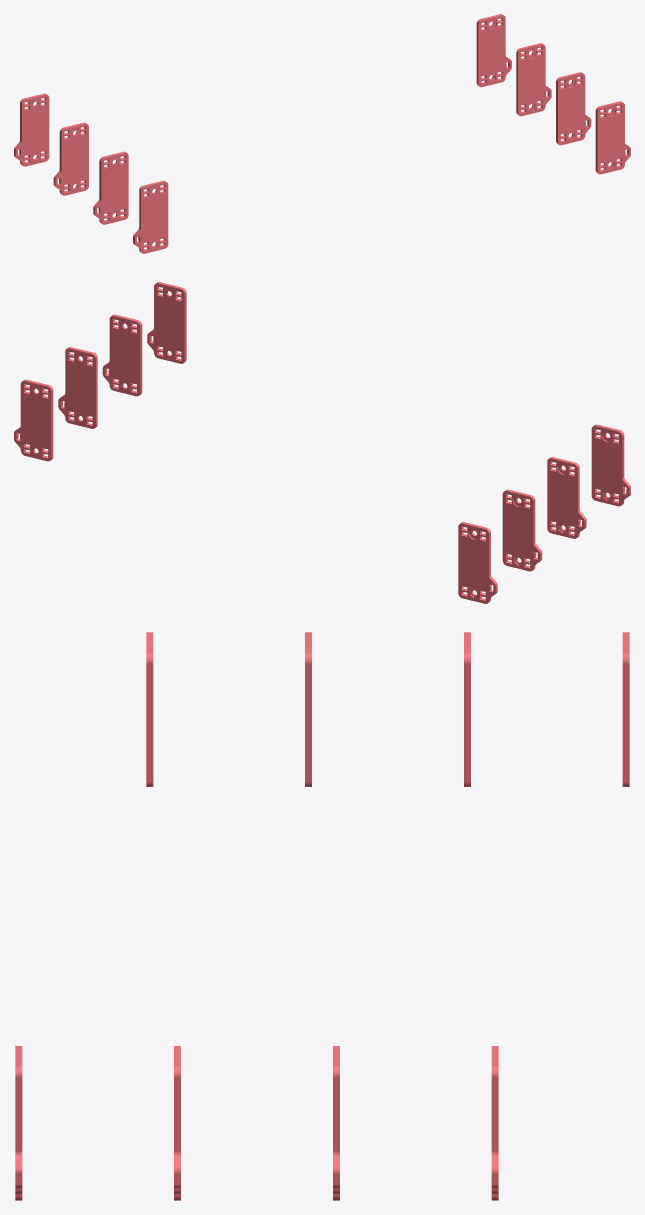
The model's file is BATTERY CRATE STACK V2__BATTERY CRATE L4__BATTERY MODULE V2 CLAMPS__SPINE ASM FRONT STOP__SPINE SIDE SIMPLE FRONT STOP B.glb.
3 renders of one model, top to bottom at view 1: azimuth 30°, elevation 25°; view 2: azimuth 150°, elevation 25°; view 3: azimuth 270°, elevation 25°, orthographic. The views are drawn at different scales.
Parts seen in each view (by area): view 1: SPINE SIDE SIMPLE FRONT STOP B 7, SPINE SIDE SIMPLE FRONT STOP B 8, SPINE SIDE SIMPLE FRONT STOP B 1, SPINE SIDE SIMPLE FRONT STOP B 2, SPINE SIDE SIMPLE FRONT STOP B 3, SPINE SIDE SIMPLE FRONT STOP B 5, SPINE SIDE SIMPLE FRONT STOP B 4, SPINE SIDE SIMPLE FRONT STOP B 6; view 2: SPINE SIDE SIMPLE FRONT STOP B 6, SPINE SIDE SIMPLE FRONT STOP B 4, SPINE SIDE SIMPLE FRONT STOP B 8, SPINE SIDE SIMPLE FRONT STOP B 2, SPINE SIDE SIMPLE FRONT STOP B 7, SPINE SIDE SIMPLE FRONT STOP B 1, SPINE SIDE SIMPLE FRONT STOP B 3, SPINE SIDE SIMPLE FRONT STOP B 5; view 3: SPINE SIDE SIMPLE FRONT STOP B 1, SPINE SIDE SIMPLE FRONT STOP B 2, SPINE SIDE SIMPLE FRONT STOP B 7, SPINE SIDE SIMPLE FRONT STOP B 8, SPINE SIDE SIMPLE FRONT STOP B 3, SPINE SIDE SIMPLE FRONT STOP B 4, SPINE SIDE SIMPLE FRONT STOP B 5, SPINE SIDE SIMPLE FRONT STOP B 6.
Part boxes in pixels (bbox=[...]): SPINE SIDE SIMPLE FRONT STOP B 7: bbox=[14, 93, 49, 166]; SPINE SIDE SIMPLE FRONT STOP B 8: bbox=[476, 14, 511, 87]; SPINE SIDE SIMPLE FRONT STOP B 1: bbox=[595, 101, 630, 174]; SPINE SIDE SIMPLE FRONT STOP B 2: bbox=[133, 180, 168, 253]; SPINE SIDE SIMPLE FRONT STOP B 3: bbox=[93, 151, 128, 224]; SPINE SIDE SIMPLE FRONT STOP B 5: bbox=[516, 43, 551, 116]; SPINE SIDE SIMPLE FRONT STOP B 4: bbox=[556, 72, 591, 145]; SPINE SIDE SIMPLE FRONT STOP B 6: bbox=[53, 122, 88, 195]; SPINE SIDE SIMPLE FRONT STOP B 6: bbox=[502, 489, 542, 571]; SPINE SIDE SIMPLE FRONT STOP B 4: bbox=[102, 314, 142, 396]; SPINE SIDE SIMPLE FRONT STOP B 8: bbox=[14, 379, 53, 461]; SPINE SIDE SIMPLE FRONT STOP B 2: bbox=[591, 424, 630, 506]; SPINE SIDE SIMPLE FRONT STOP B 7: bbox=[458, 522, 497, 603]; SPINE SIDE SIMPLE FRONT STOP B 1: bbox=[147, 282, 186, 363]; SPINE SIDE SIMPLE FRONT STOP B 3: bbox=[547, 457, 586, 538]; SPINE SIDE SIMPLE FRONT STOP B 5: bbox=[58, 347, 97, 428]; SPINE SIDE SIMPLE FRONT STOP B 1: bbox=[15, 1046, 22, 1200]; SPINE SIDE SIMPLE FRONT STOP B 2: bbox=[146, 632, 153, 786]; SPINE SIDE SIMPLE FRONT STOP B 7: bbox=[622, 632, 629, 786]; SPINE SIDE SIMPLE FRONT STOP B 8: bbox=[491, 1046, 498, 1200]; SPINE SIDE SIMPLE FRONT STOP B 3: bbox=[305, 632, 311, 786]; SPINE SIDE SIMPLE FRONT STOP B 4: bbox=[174, 1046, 180, 1200]; SPINE SIDE SIMPLE FRONT STOP B 5: bbox=[333, 1046, 339, 1200]; SPINE SIDE SIMPLE FRONT STOP B 6: bbox=[464, 632, 470, 786].
Size of the model in its own units: 0.9672 by 0.1333 by 0.5552.
